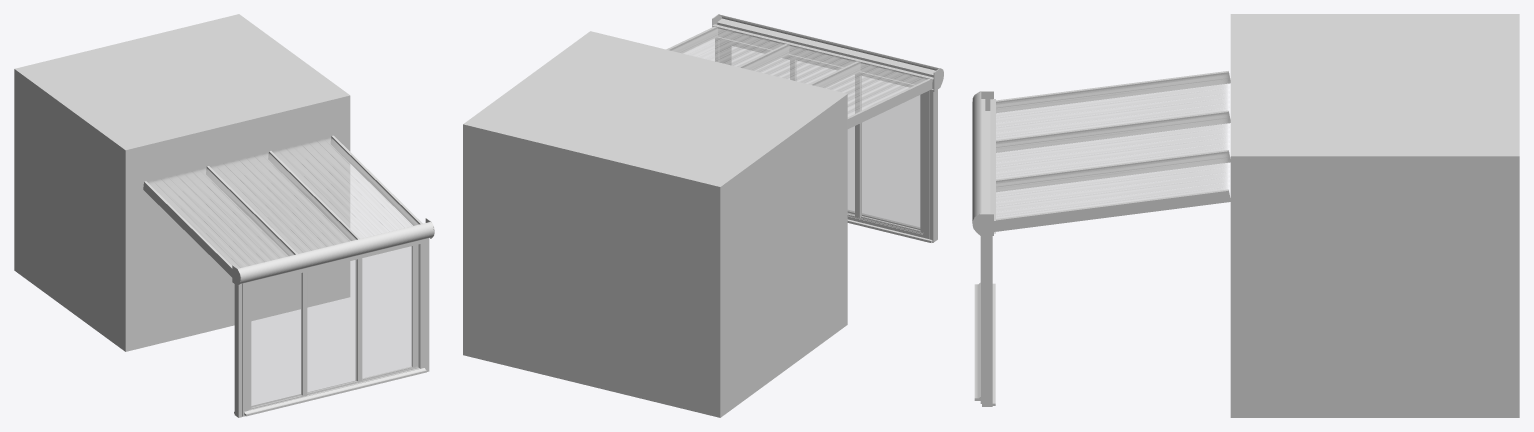
The model's file is BasicVeranda9.glb.
3 views of the same model, side by side, from view 1: azimuth 30°, elevation 25°; view 2: azimuth 150°, elevation 25°; view 3: azimuth 270°, elevation 25° (orthographic). The views are drawn at different scales.
Visible parts, largest first — view 1: Huis, WindowPanelLeft, WindowPanelMid, WindowPanelRight, PolyKanaalplaat03, PolyKanaalplaat01, PolyKanaalplaat02, WindowFrame, GootProfiel, EindLiggerLinks, Legs01Left, Ligger01 (+3 smaller); view 2: Huis, WindowPanelLeft, GootProfiel, PolyKanaalplaat03, WindowFrame, PolyKanaalplaat01, PolyKanaalplaat02, WindowPanelMid, Legs01Left, EindLiggerLinks, WindowPanelRight, Ligger01 (+2 smaller); view 3: Huis, PolyKanaalplaat03, PolyKanaalplaat01, PolyKanaalplaat02, EindLiggerRechts, Ligger02, Ligger01, EindLiggerLinks, GootProfiel, WindowFrame, Legs01Right.
Boxes of the visible parts, x1,y1,x2,y2 form: Huis: (14, 14, 350, 351); WindowPanelLeft: (248, 271, 307, 409); WindowPanelMid: (301, 258, 362, 395); WindowPanelRight: (355, 245, 416, 380); PolyKanaalplaat03: (149, 168, 294, 268); PolyKanaalplaat01: (273, 138, 418, 238); PolyKanaalplaat02: (211, 153, 356, 253); WindowFrame: (234, 239, 426, 416); GootProfiel: (238, 222, 433, 283); EindLiggerLinks: (143, 181, 232, 277); Legs01Left: (234, 283, 241, 417); Ligger01: (268, 151, 360, 240); Huis: (463, 31, 847, 417); WindowPanelLeft: (861, 76, 923, 232); GootProfiel: (712, 14, 939, 91); PolyKanaalplaat03: (814, 63, 927, 116); WindowFrame: (719, 40, 932, 242); PolyKanaalplaat01: (671, 28, 784, 66); PolyKanaalplaat02: (743, 46, 855, 84); WindowPanelMid: (796, 60, 860, 218); Legs01Left: (929, 90, 937, 242); EindLiggerLinks: (847, 79, 932, 128); WindowPanelRight: (726, 43, 795, 80); Ligger01: (738, 44, 789, 70); Huis: (1230, 14, 1519, 417); PolyKanaalplaat03: (996, 74, 1227, 139); PolyKanaalplaat01: (996, 153, 1227, 218); PolyKanaalplaat02: (996, 114, 1227, 179); EindLiggerRechts: (994, 189, 1230, 231); Ligger02: (996, 110, 1230, 152); Ligger01: (996, 150, 1230, 191); EindLiggerLinks: (996, 71, 1230, 112); GootProfiel: (972, 92, 995, 233); WindowFrame: (974, 113, 995, 405); Legs01Right: (982, 236, 992, 406).
Bounding box in the file's own units: 35 × 30 × 56.84.
Materials: 3 (1 with a texture image).
